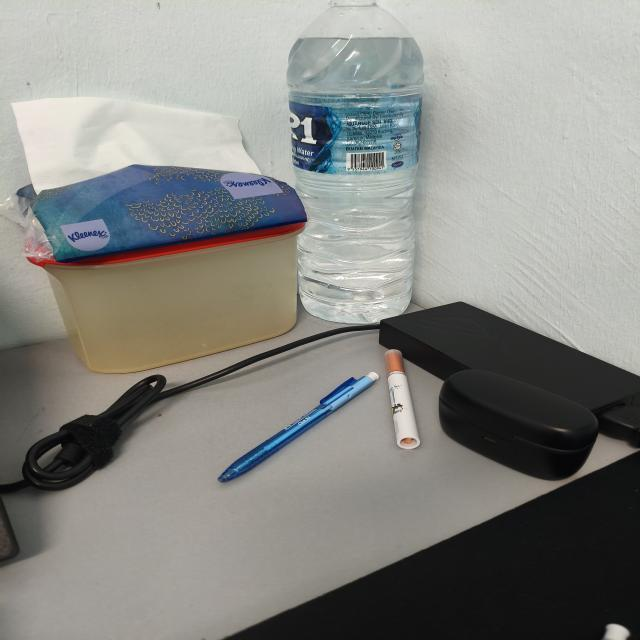pen: (219, 372, 378, 482)
